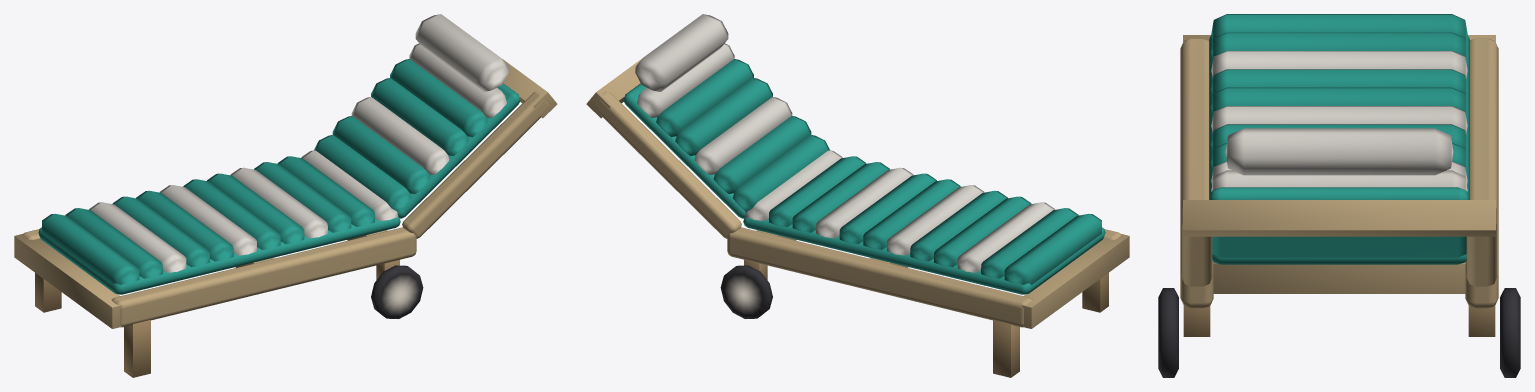
The model's file is furn_dp_lounger.glb.
3 views of the same model, side by side, from view 1: azimuth 30°, elevation 25°; view 2: azimuth 150°, elevation 25°; view 3: azimuth 270°, elevation 25° (orthographic). The views are drawn at different scales.
Parts seen in each view (by area): view 1: furn_dp_lounger_main; view 2: furn_dp_lounger_main; view 3: furn_dp_lounger_main.
Part boxes in pixels (left/top/right/bottom): furn_dp_lounger_main: left=14, top=14, right=557, bottom=377; furn_dp_lounger_main: left=586, top=14, right=1129, bottom=377; furn_dp_lounger_main: left=1158, top=14, right=1520, bottom=377.
Bounding box in the file's own units: 1.73 × 0.7867 × 0.764.
